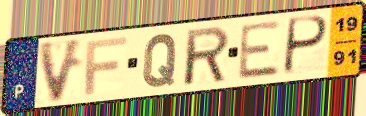E: (236, 19, 284, 82)
F: (83, 35, 128, 96)
P: (280, 14, 330, 78)
Q: (141, 31, 180, 89)
R: (184, 24, 232, 88)
V: (36, 36, 87, 105)
